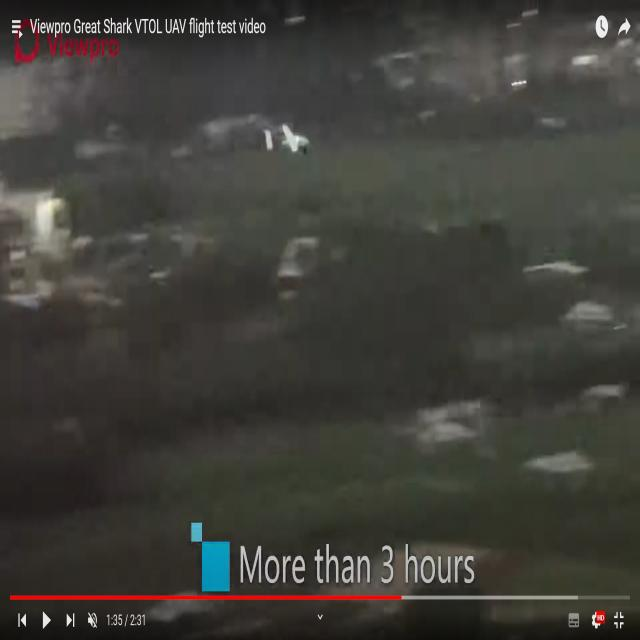iha: (263, 118, 310, 150)
